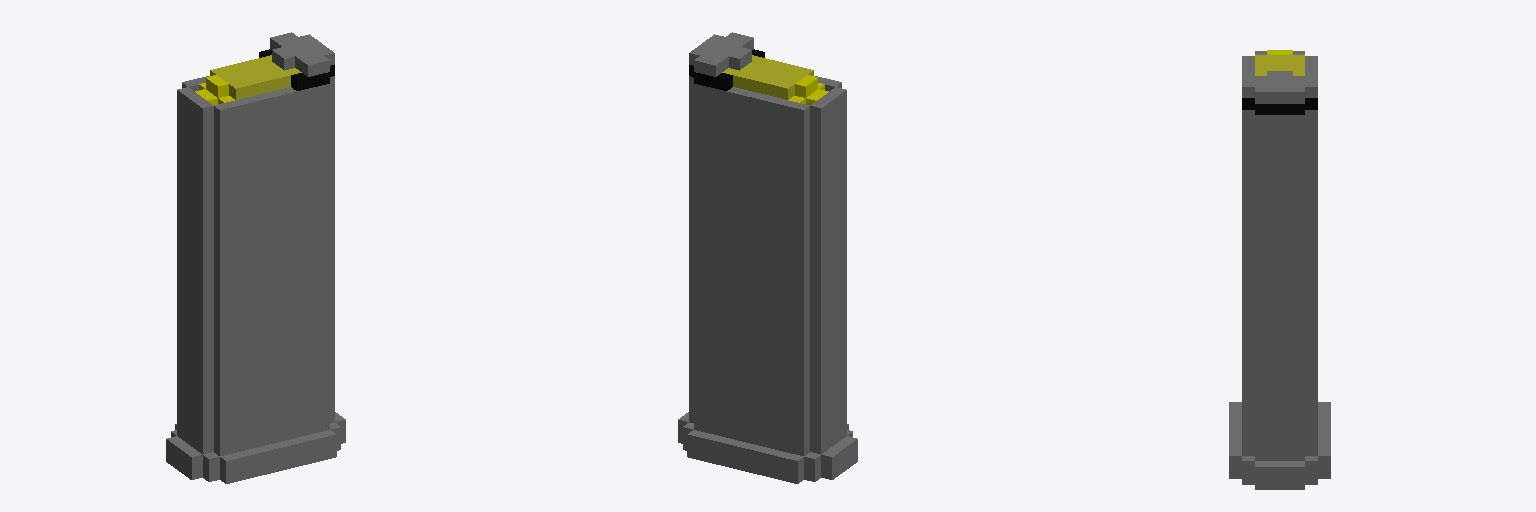
3 views of the same model, side by side, from view 1: azimuth 30°, elevation 25°; view 2: azimuth 150°, elevation 25°; view 3: azimuth 270°, elevation 25° (orthographic).
Visible parts, largest first — view 1: object 1; view 2: object 1; view 3: object 1.
Boxes of the visible parts, box(x1,y1,x2,y2) form: object 1: box(166, 32, 345, 483); object 1: box(678, 32, 857, 483); object 1: box(1229, 50, 1330, 489).
Size of the model in its own units: 1.4 by 3.4 by 0.8.
1 materials, 1 textured.